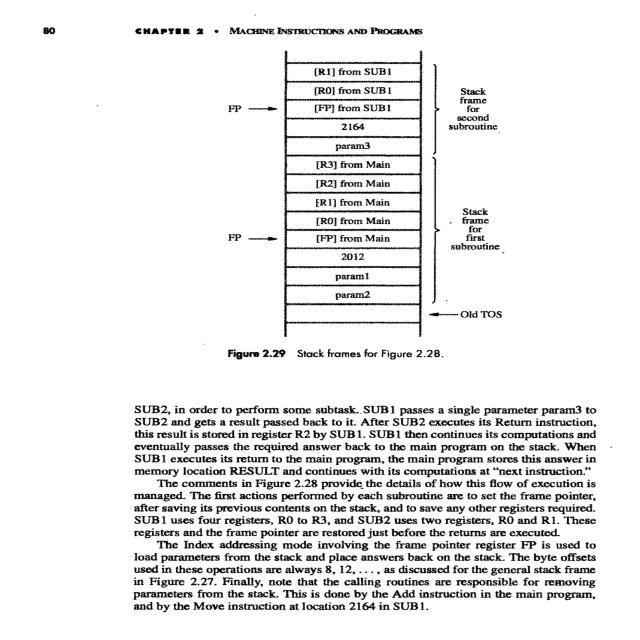diagram: (197, 46, 568, 376)
